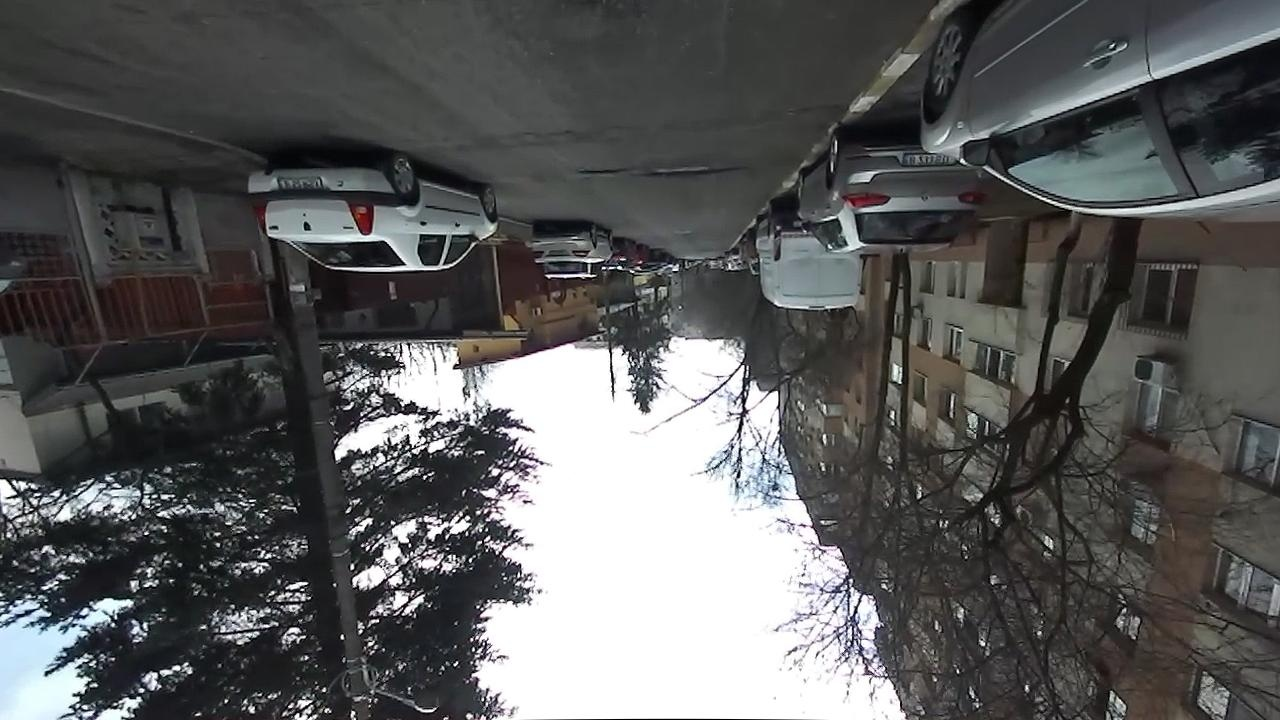pothole: (646, 162, 742, 178), (578, 165, 628, 177)
